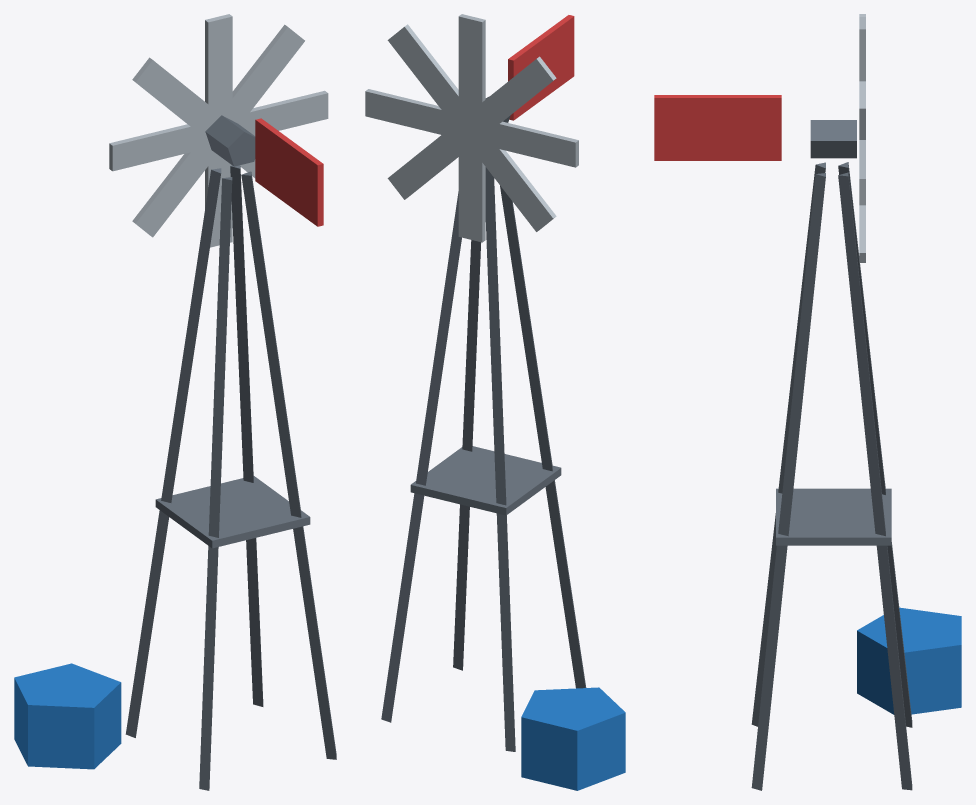
The model's file is moinho_vento.glb.
The picture shows the model from 3 angles, left to right: view 1: azimuth 30°, elevation 25°; view 2: azimuth 150°, elevation 25°; view 3: azimuth 270°, elevation 25°; orthographic projection. The views are drawn at different scales.
Visible parts, largest first — view 1: corpo; view 2: corpo; view 3: corpo.
Part boxes in pixels (x1,y1,x2,y2): corpo: [14, 14, 336, 790]; corpo: [365, 14, 625, 790]; corpo: [654, 14, 961, 790].
Bounding box in the file's own units: 0.5751 × 1.4 × 0.5309.
